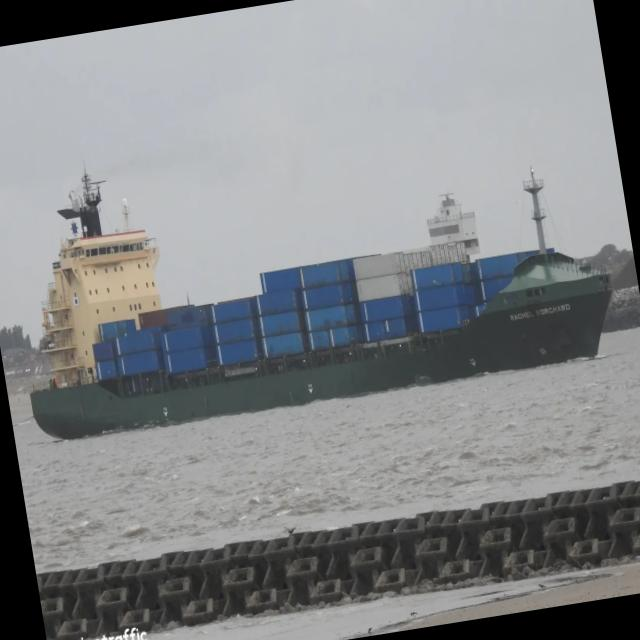Cargo: (30, 171, 612, 439)
